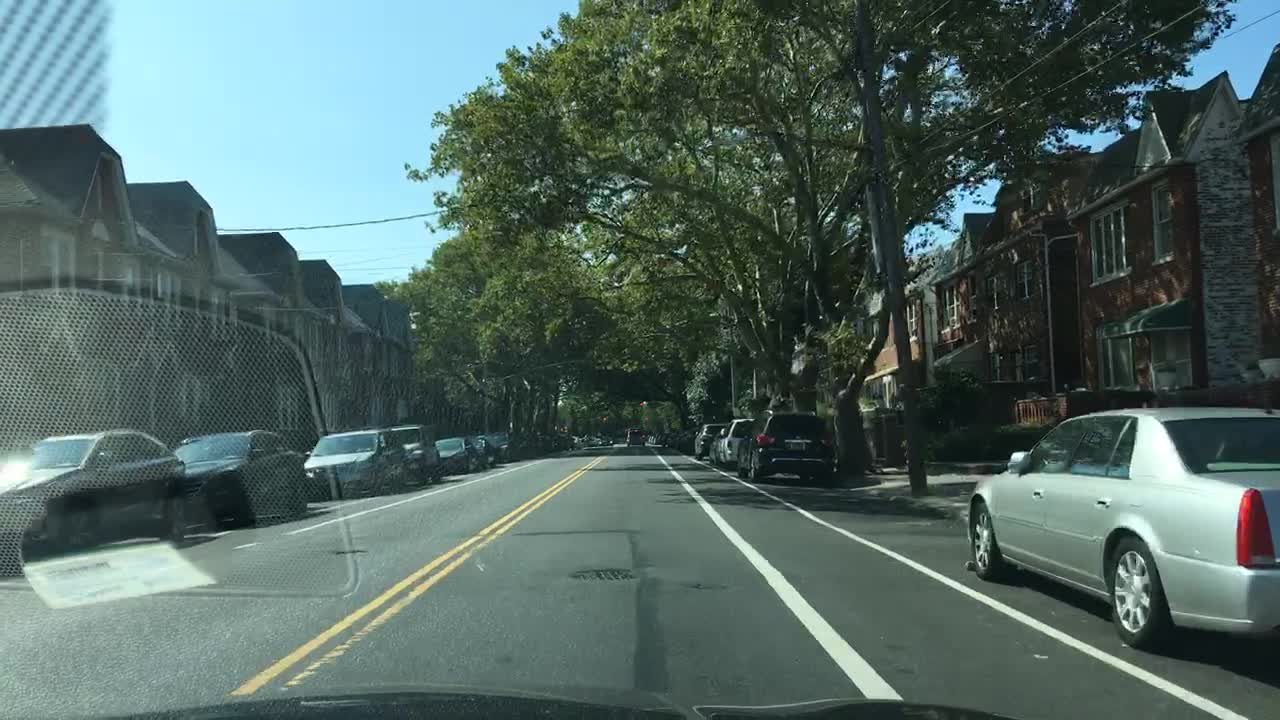car: (963, 405, 1276, 649), (0, 428, 189, 553), (168, 428, 307, 525), (301, 425, 412, 497), (734, 408, 833, 482), (388, 422, 443, 483), (705, 415, 754, 469), (433, 434, 481, 474), (690, 420, 727, 459), (484, 430, 527, 463), (466, 433, 498, 467), (516, 428, 548, 459), (675, 424, 701, 451), (623, 425, 646, 445), (538, 431, 559, 451), (557, 430, 579, 449), (581, 432, 602, 446), (661, 429, 677, 446), (570, 432, 587, 447), (595, 431, 614, 444), (652, 430, 664, 445), (646, 430, 655, 443)
